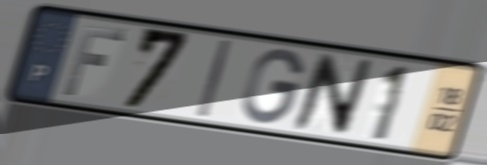1: (371, 63, 413, 143)
7: (122, 25, 193, 112)
F: (60, 22, 130, 98)
G: (240, 46, 308, 126)
I: (194, 37, 235, 121)
N: (288, 51, 377, 139)
